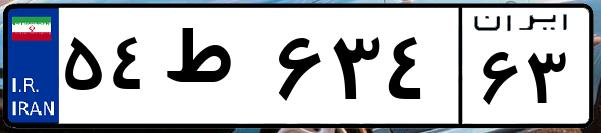3: (330, 28, 385, 110), (525, 38, 570, 115)
4: (385, 28, 445, 110), (110, 28, 158, 98)
5: (57, 26, 110, 100)
6: (270, 28, 330, 110), (475, 38, 525, 113)
ط: (158, 20, 270, 120)
